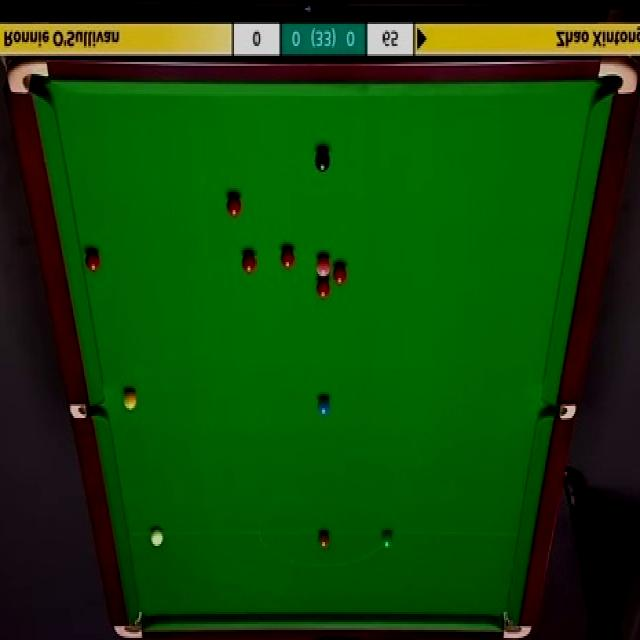black-ball: (314, 150, 330, 173)
blue-ball: (318, 399, 331, 417)
brown-ball: (318, 532, 330, 552)
green-ball: (380, 531, 394, 548)
pink-ball: (316, 252, 331, 277)
red-ball: (240, 251, 258, 276), (225, 194, 243, 216), (279, 247, 295, 271), (85, 246, 99, 272), (316, 277, 332, 299), (332, 262, 347, 285)
white-ball: (150, 528, 162, 547)
yellow-ball: (123, 387, 136, 410)
